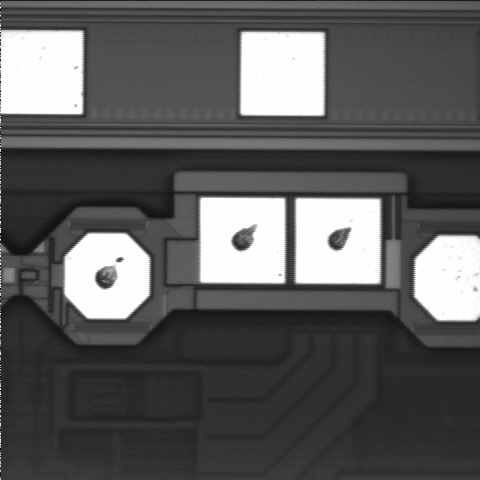pad: (200, 198, 285, 283), (296, 198, 380, 284), (65, 234, 149, 318), (241, 32, 324, 116)
